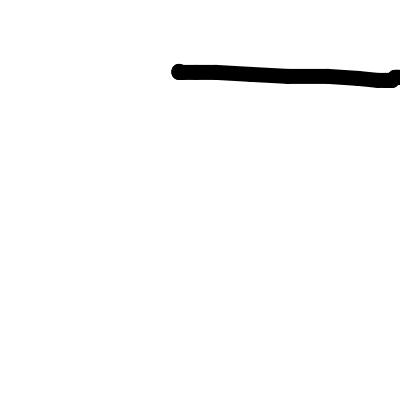minus: (170, 63, 400, 89)
